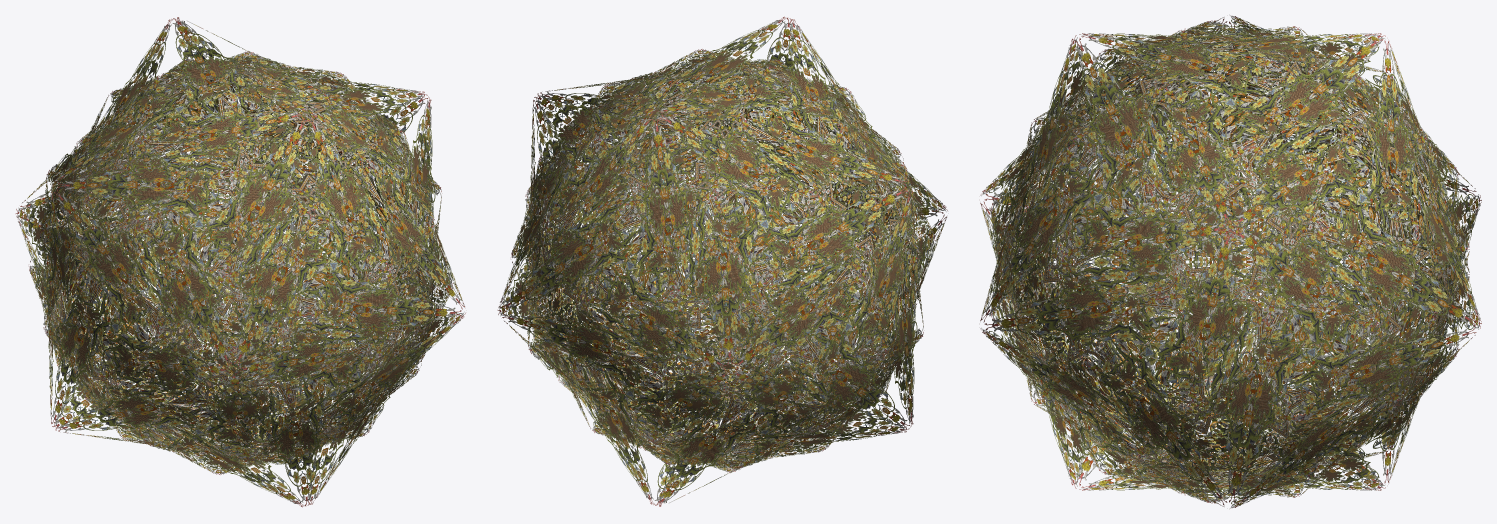
File: 7MedialPentagonalHexecontahedron.gltf
3 renders of one model, left to right at view 1: azimuth 30°, elevation 25°; view 2: azimuth 150°, elevation 25°; view 3: azimuth 270°, elevation 25°, orthographic. The views are drawn at different scales.
Visible parts, largest first — view 1: MedialPentagonalHexecontahedron8; view 2: MedialPentagonalHexecontahedron8; view 3: MedialPentagonalHexecontahedron8.
Boxes of the visible parts, box(x1,y1,x2,y2) form: MedialPentagonalHexecontahedron8: box(15, 17, 465, 507); MedialPentagonalHexecontahedron8: box(497, 16, 947, 506); MedialPentagonalHexecontahedron8: box(980, 15, 1481, 508).
Bounding box in the file's own units: 2.46 × 2.46 × 2.46.
1 material, 1 textured.
